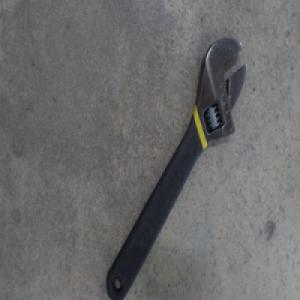AdjustableWrench: (106, 38, 247, 298)
